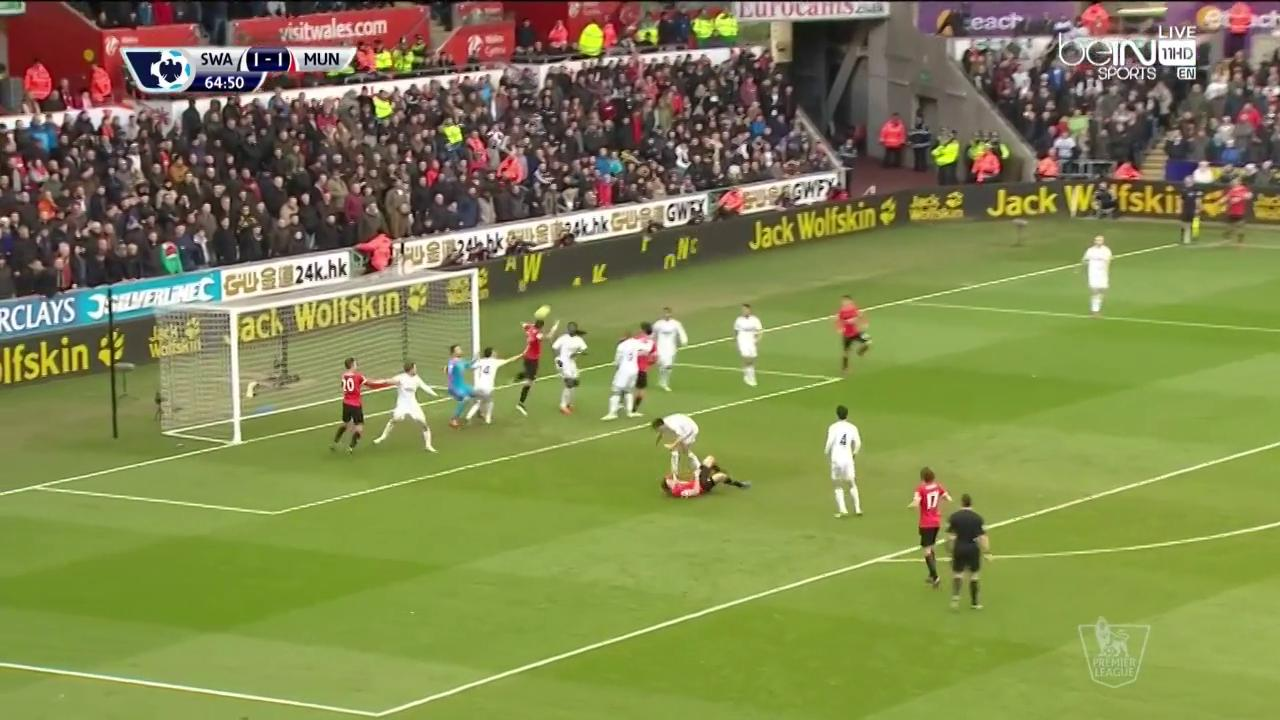football: (533, 303, 552, 319)
